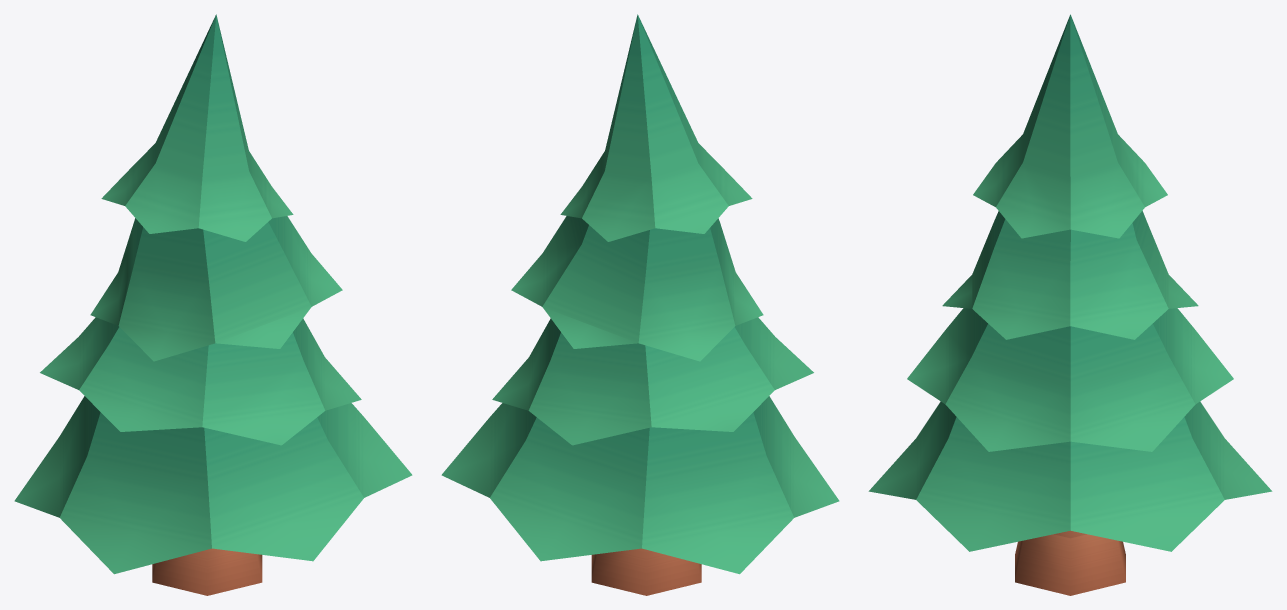
File: pine-crooked.glb
3 views of the same model, side by side, from view 1: azimuth 30°, elevation 25°; view 2: azimuth 150°, elevation 25°; view 3: azimuth 270°, elevation 25° (orthographic).
Visible parts, largest first — view 1: Asset3DLoader.sceneRoot; view 2: Asset3DLoader.sceneRoot; view 3: Asset3DLoader.sceneRoot.
Boxes of the visible parts, x1,y1,x2,y2 form: Asset3DLoader.sceneRoot: [14, 14, 412, 595]; Asset3DLoader.sceneRoot: [441, 14, 839, 595]; Asset3DLoader.sceneRoot: [868, 14, 1272, 595].
Size of the model in its own units: 1.17 by 2.04 by 1.33.
Materials: 1 (1 with a texture image).
